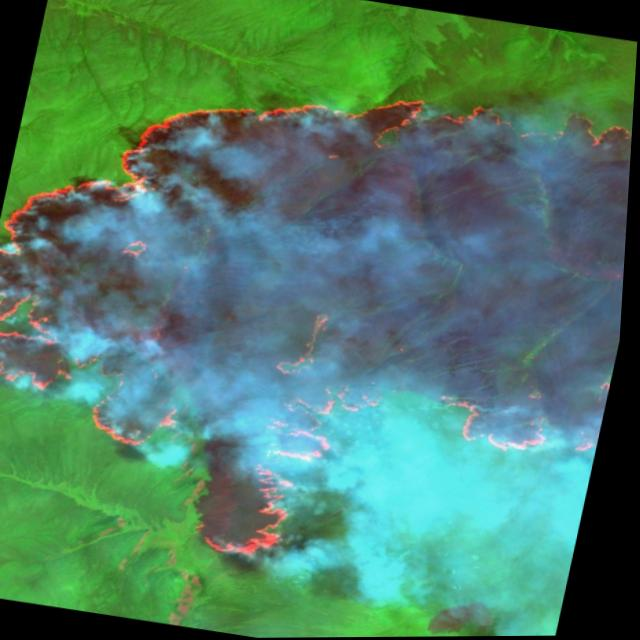fire: (0, 29, 638, 621)
